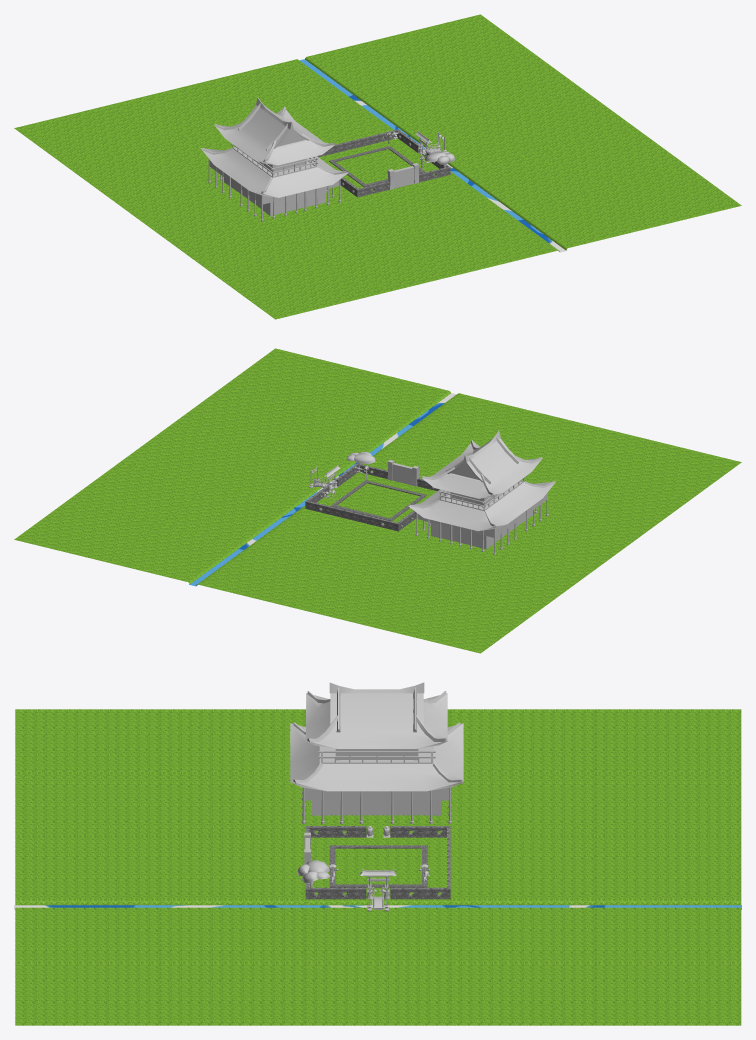
File: SM_External_Env_01.fbx
3 renders of one model, top to bottom at view 1: azimuth 30°, elevation 25°; view 2: azimuth 150°, elevation 25°; view 3: azimuth 270°, elevation 25°, orthographic. The views are drawn at different scales.
Visible parts, largest first — view 1: SM_Ext_Floor_01, SM_Temple_01, SM_Walls_02, SM_River_01, SM_Gate_01, SM_Rocks_01; view 2: SM_Ext_Floor_01, SM_Temple_01, SM_Walls_02, SM_River_01, SM_Rocks_01, SM_Gate_01; view 3: SM_Ext_Floor_01, SM_Temple_01, SM_Walls_02, SM_River_01, SM_Rocks_01, SM_Tree_01.
Boxes of the visible parts, x1,y1,x2,y2 form: SM_Ext_Floor_01: (14, 14, 741, 319); SM_Temple_01: (200, 97, 348, 221); SM_Walls_02: (317, 129, 450, 197); SM_River_01: (299, 59, 567, 252); SM_Gate_01: (387, 163, 418, 189); SM_Rocks_01: (329, 146, 424, 187); SM_Ext_Floor_01: (14, 348, 741, 653); SM_Temple_01: (408, 431, 555, 554); SM_Walls_02: (305, 463, 439, 531); SM_River_01: (189, 393, 456, 586); SM_Rocks_01: (330, 480, 426, 521); SM_Gate_01: (387, 460, 418, 486); SM_Ext_Floor_01: (15, 709, 741, 1025); SM_Temple_01: (290, 682, 463, 823); SM_Walls_02: (305, 826, 450, 899); SM_River_01: (14, 905, 741, 909); SM_Rocks_01: (329, 845, 427, 887); SM_Tree_01: (297, 860, 330, 887).
Size of the model in its own units: 106 by 18.82 by 103.
